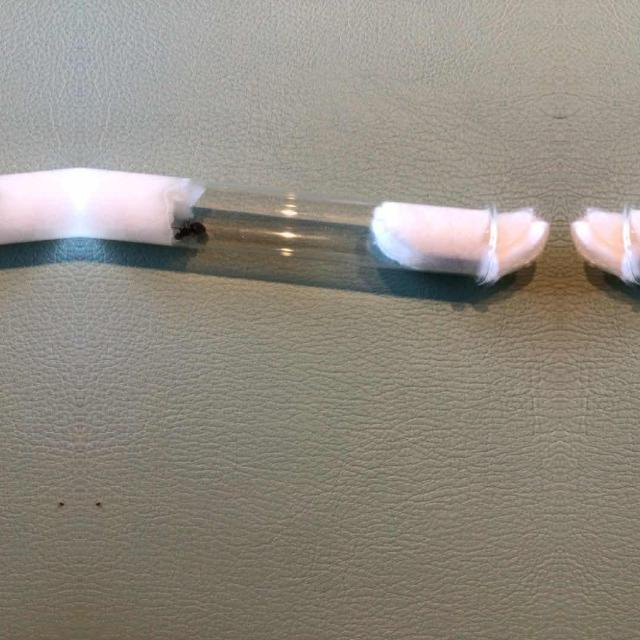Formica: (168, 217, 218, 241)
